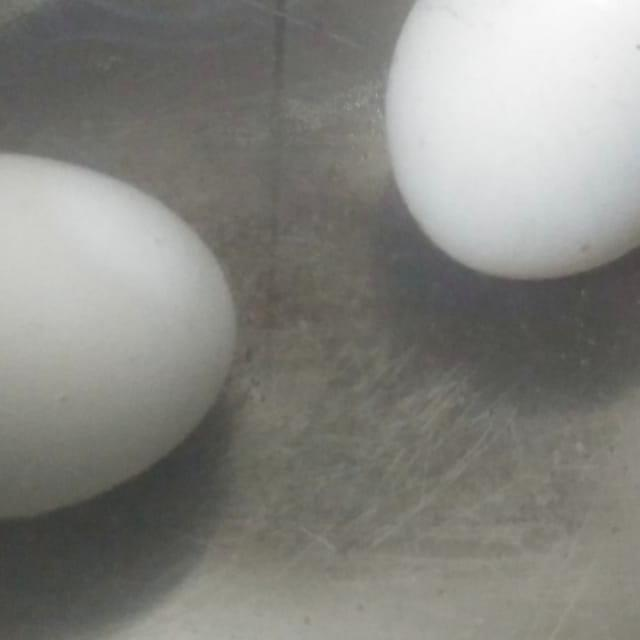egg: (0, 120, 249, 553), (381, 0, 640, 283)
